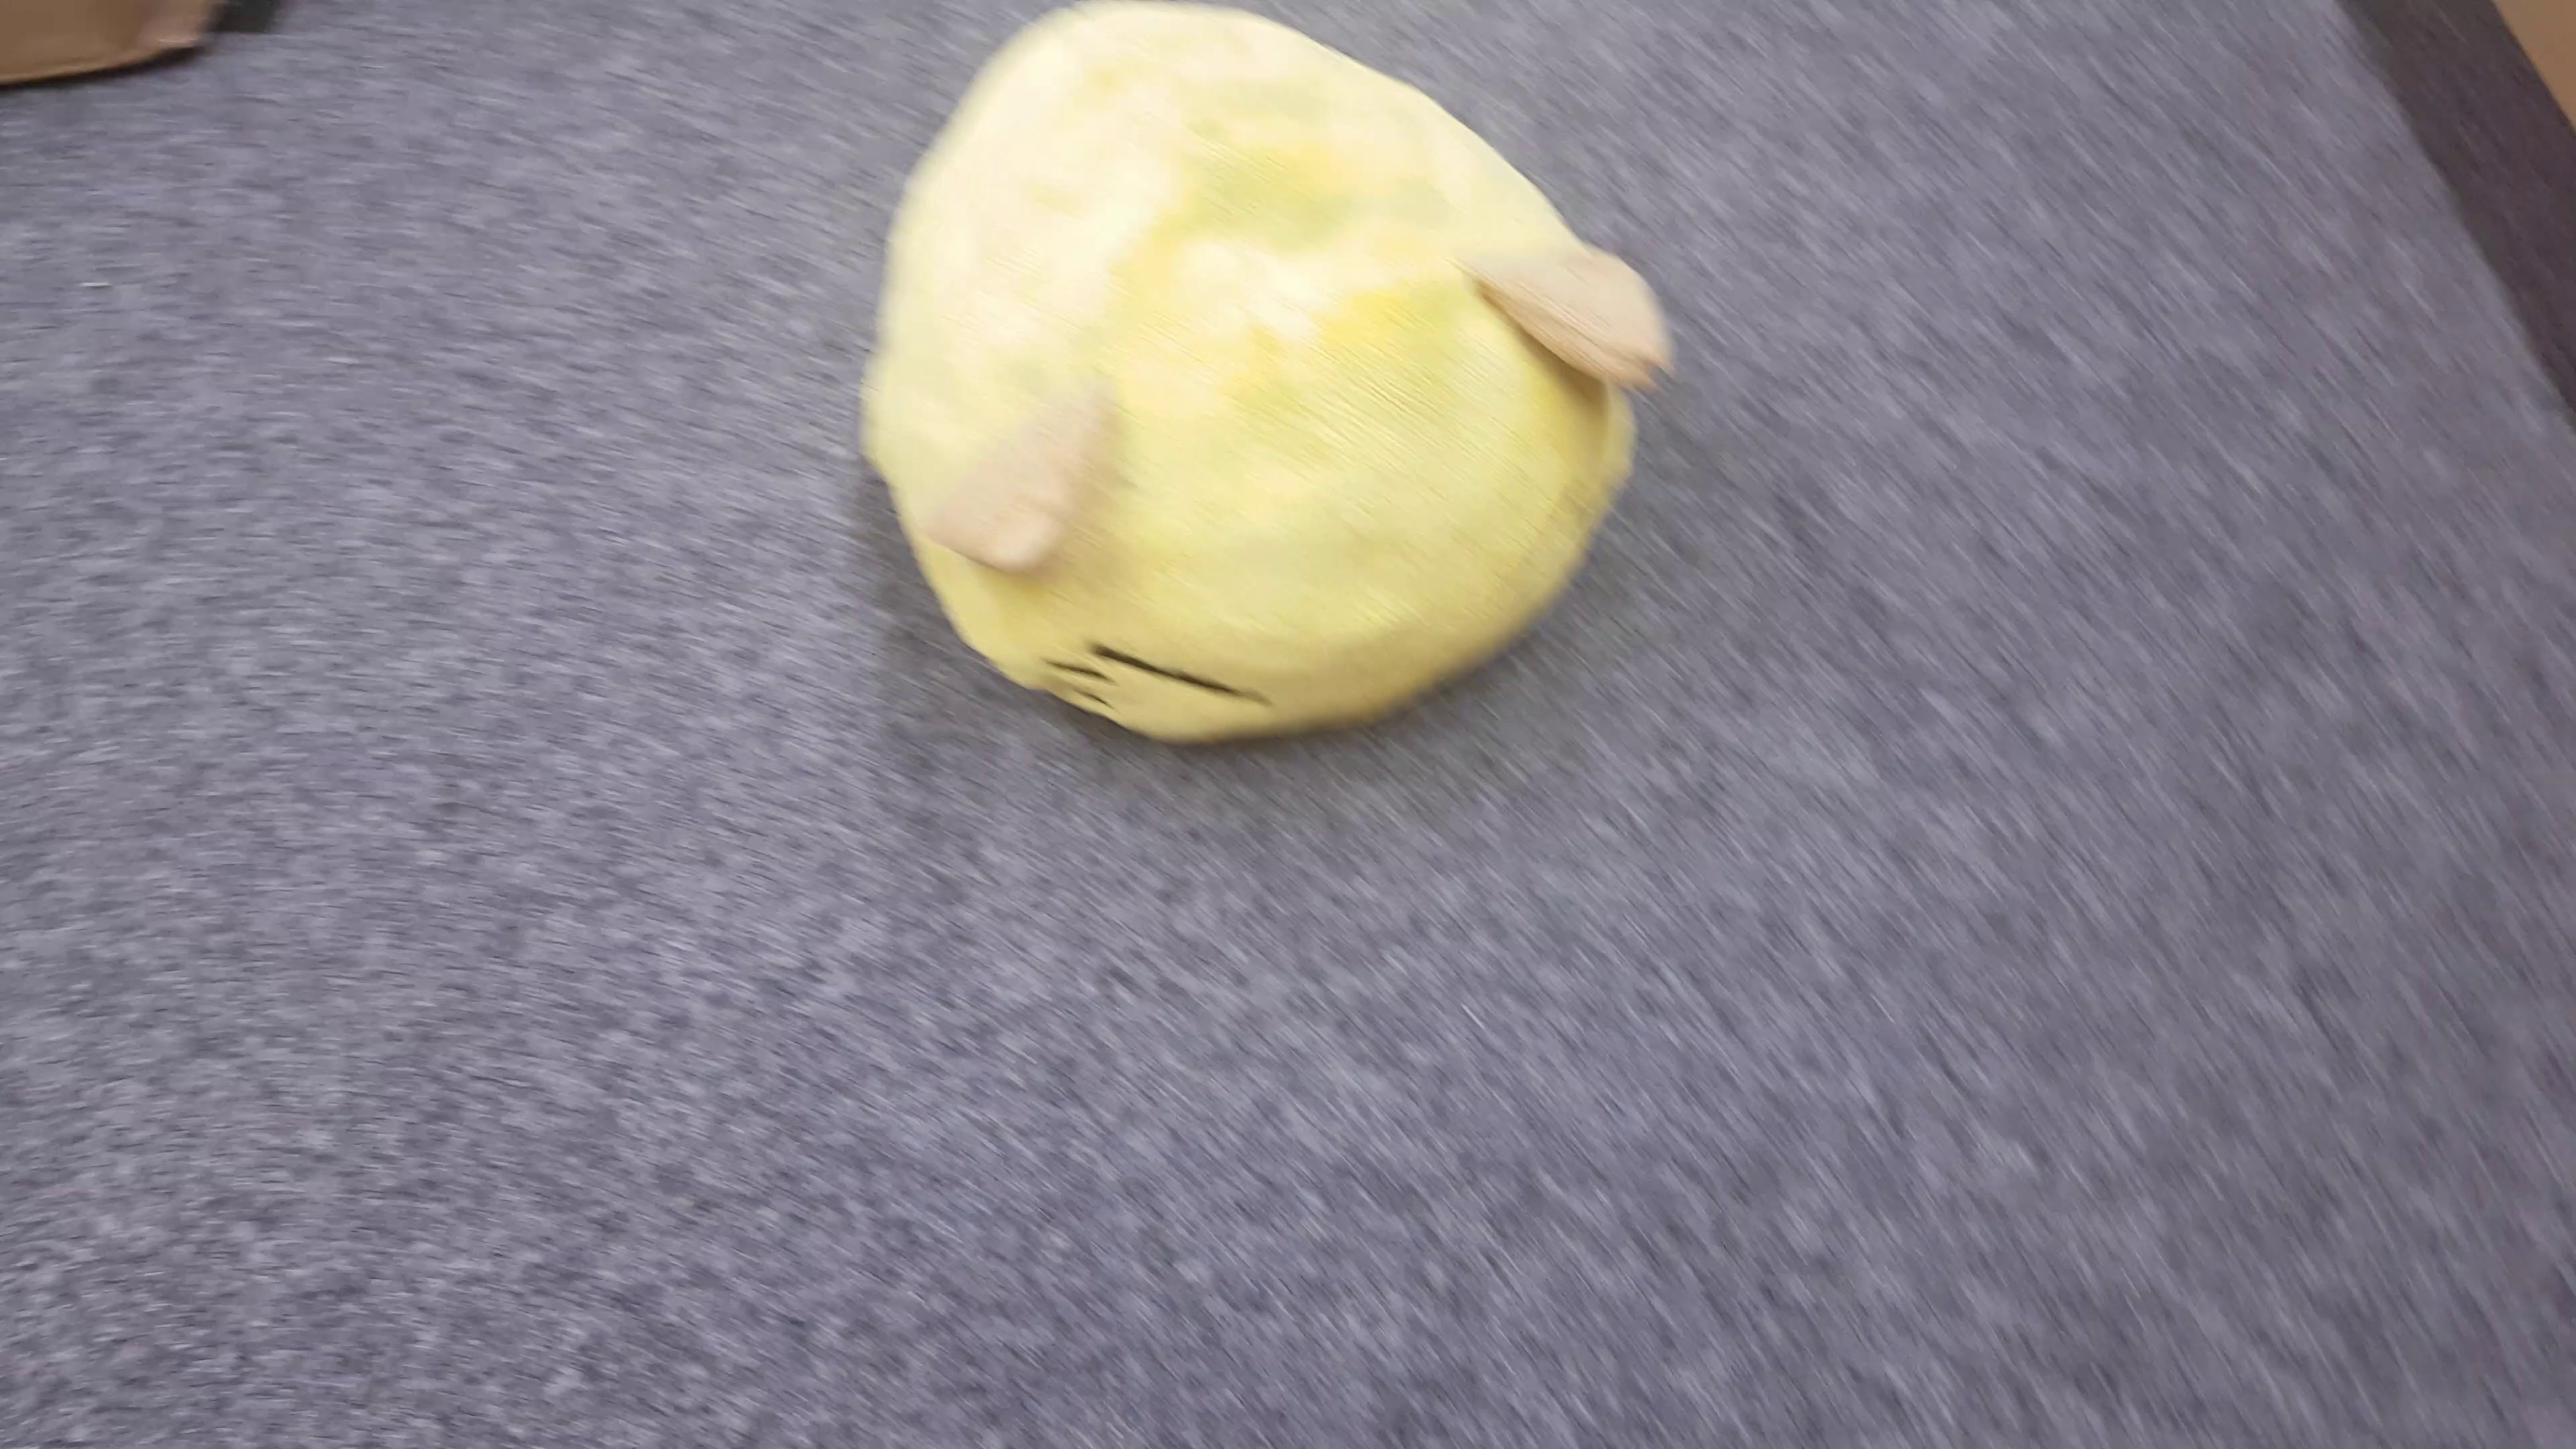grasp: (862, 2, 1665, 738)
